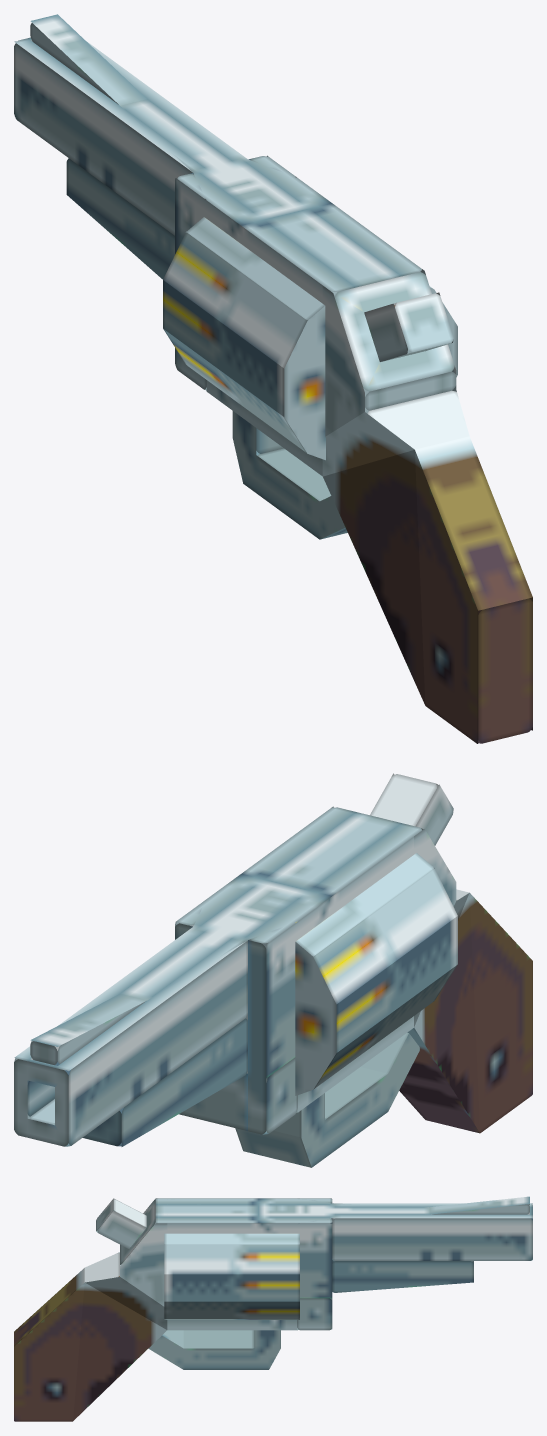
File: revolver.fbx
3 views of the same model, one above another, from view 1: azimuth 30°, elevation 25°; view 2: azimuth 150°, elevation 25°; view 3: azimuth 270°, elevation 25° (orthographic). The views are drawn at different scales.
Visible parts, largest first — view 1: frame, barrel; view 2: frame, barrel; view 3: frame, barrel.
Boxes of the visible parts, x1,y1,x2,y2 form: frame: (14, 14, 532, 743); barrel: (163, 217, 457, 460); frame: (14, 773, 532, 1167); barrel: (245, 853, 457, 1095); frame: (14, 1196, 532, 1421); barrel: (164, 1233, 299, 1319).
Bounding box in the file's own units: 59.38 × 125 × 275.
1 material, 1 textured.
